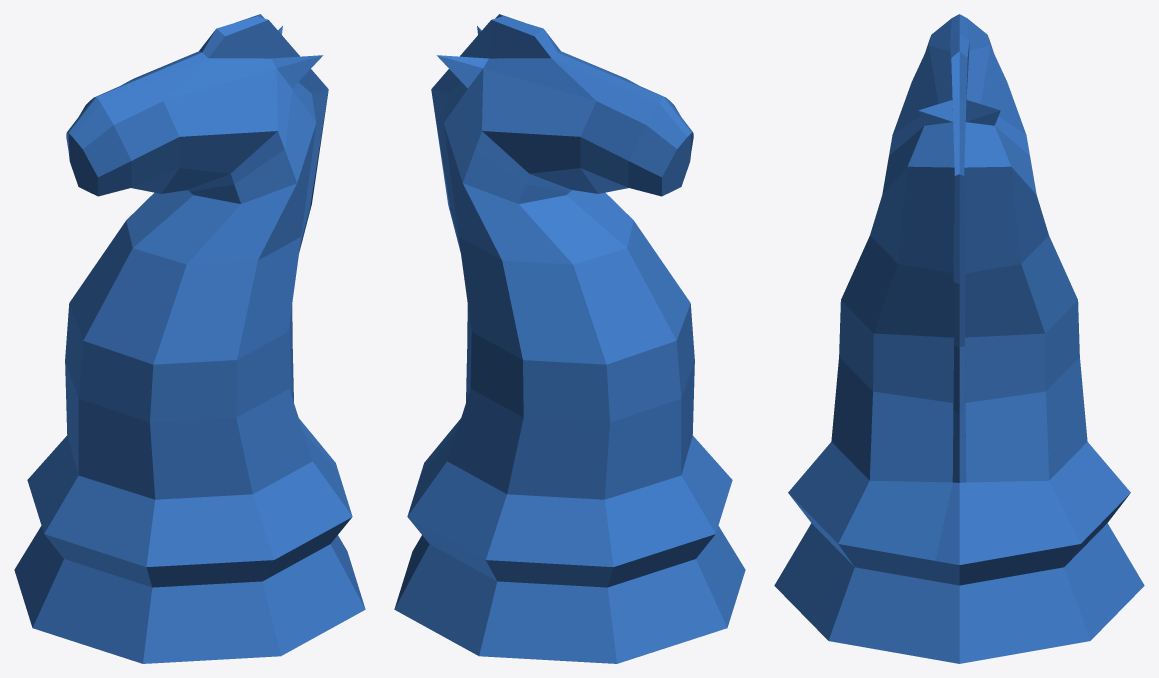
Rendered from ChessKnight.obj.
3 views of the same model, side by side, from view 1: azimuth 30°, elevation 25°; view 2: azimuth 150°, elevation 25°; view 3: azimuth 270°, elevation 25° (orthographic).
Parts seen in each view (by area): view 1: White_Knight_1_Cylinder.004; view 2: White_Knight_1_Cylinder.004; view 3: White_Knight_1_Cylinder.004.
Boxes of the visible parts, x1,y1,x2,y2 form: White_Knight_1_Cylinder.004: (14, 14, 365, 663); White_Knight_1_Cylinder.004: (394, 14, 745, 663); White_Knight_1_Cylinder.004: (774, 14, 1144, 663).
Size of the model in its own units: 4 by 6.76 by 4.
